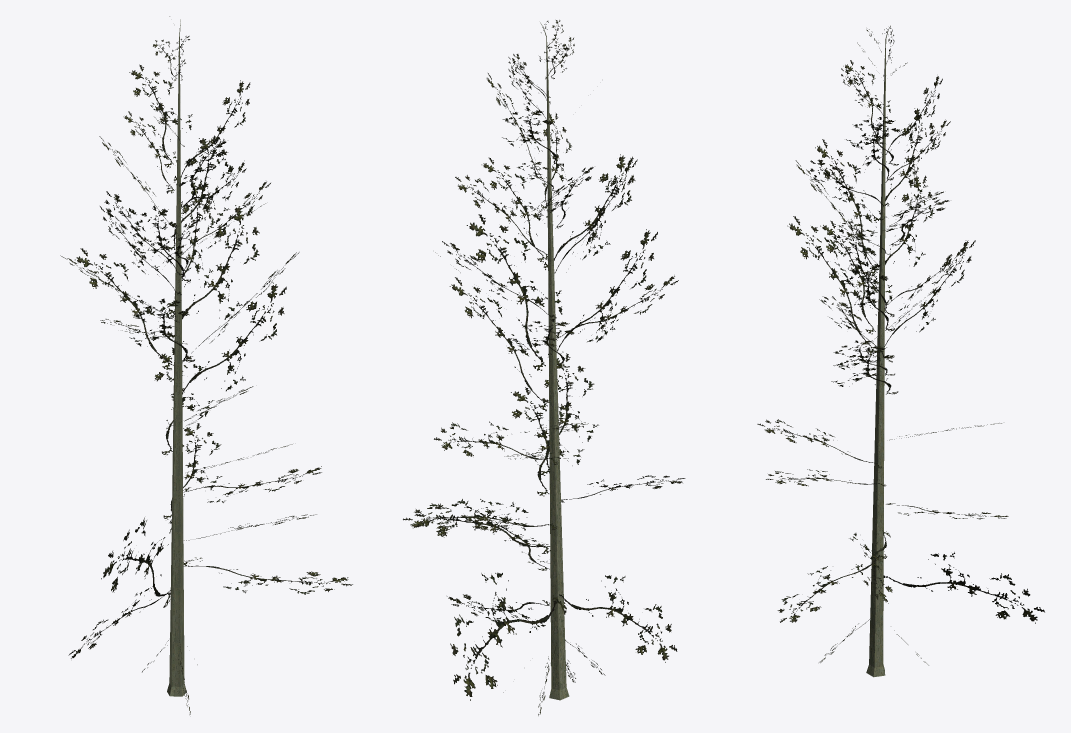
The model's file is cedar3_po.obj.
3 renders of one model, left to right at view 1: azimuth 30°, elevation 25°; view 2: azimuth 150°, elevation 25°; view 3: azimuth 270°, elevation 25°, orthographic. The views are drawn at different scales.
Parts seen in each view (by area): view 1: Cedar3_PO; view 2: Cedar3_PO; view 3: Cedar3_PO.
Part boxes in pixels (x1,y1,x2,y2): Cedar3_PO: [60, 16, 352, 714]; Cedar3_PO: [403, 20, 685, 715]; Cedar3_PO: [757, 25, 1044, 677].
Size of the model in its own units: 2.98 by 7.18 by 3.25.
